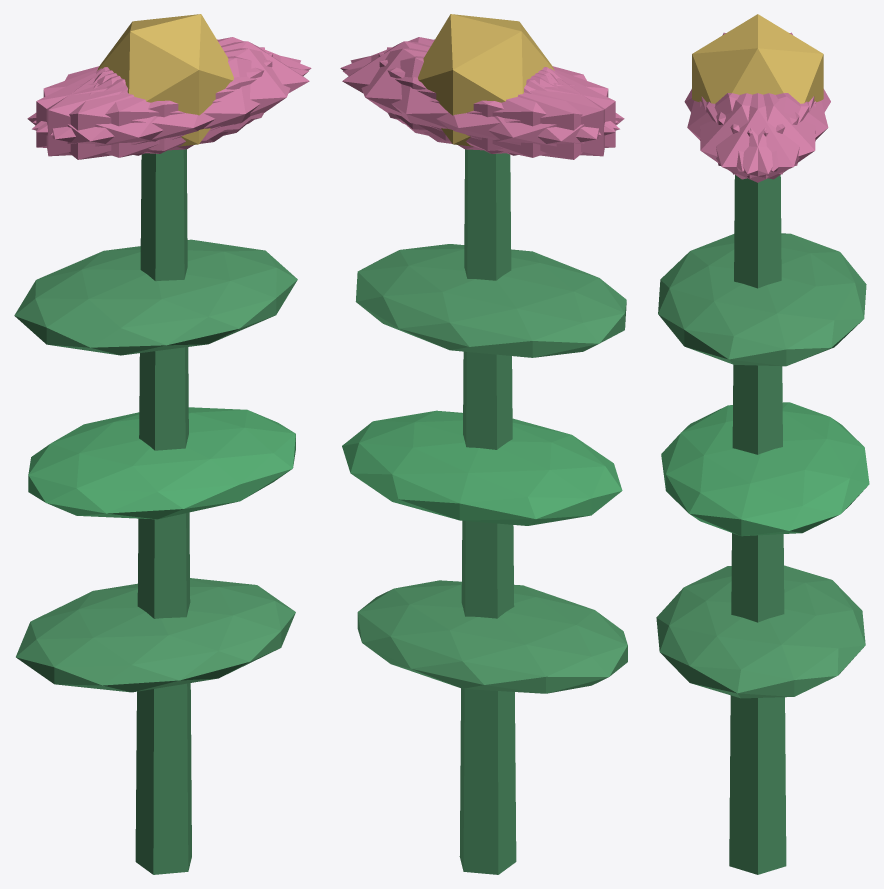
Rendered from ixora-casei.glb.
3 renders of one model, left to right at view 1: azimuth 30°, elevation 25°; view 2: azimuth 150°, elevation 25°; view 3: azimuth 270°, elevation 25°, orthographic.
Parts seen in each view (by area): view 1: stem, leaf2, leaf0, leaf1, center, petal1, petal6, petal2, petal5, petal7, petal0, petal4 (+2 smaller); view 2: stem, leaf1, leaf2, leaf0, center, petal8, petal3, petal7, petal4, petal2, petal0, petal5 (+2 smaller); view 3: stem, leaf2, leaf1, leaf0, center, petal0, petal4, petal5, petal8, petal1.
Part boxes in pixels (box(x1,y1,x2,y2)): stem: box(135, 149, 191, 874); leaf2: box(14, 239, 297, 355); leaf0: box(16, 578, 295, 692); leaf1: box(28, 407, 295, 519); center: box(97, 14, 233, 146); petal1: box(32, 56, 308, 157); petal6: box(27, 68, 227, 159); petal2: box(46, 47, 264, 156); petal5: box(50, 48, 300, 150); petal7: box(36, 53, 272, 153); petal0: box(97, 41, 309, 141); petal4: box(33, 37, 311, 132); stem: box(459, 149, 516, 874); leaf1: box(342, 410, 622, 525); leaf2: box(355, 244, 626, 357); leaf0: box(357, 580, 627, 693); center: box(418, 14, 554, 146); petal8: box(343, 56, 619, 157); petal3: box(424, 68, 624, 159); petal7: box(387, 47, 604, 156); petal4: box(350, 48, 600, 150); petal2: box(378, 53, 615, 153); petal0: box(342, 41, 554, 140); petal5: box(340, 37, 618, 132); stem: box(729, 175, 786, 874); leaf2: box(658, 233, 866, 366); leaf1: box(661, 402, 869, 536); leaf0: box(656, 565, 865, 698); center: box(692, 14, 823, 103); petal0: box(701, 93, 814, 182); petal4: box(706, 93, 815, 179); petal5: box(699, 93, 809, 179); petal8: box(716, 93, 828, 171); petal1: box(687, 93, 799, 171).
Bounding box in the file's own units: 0.1476 × 0.4275 × 0.0994.
